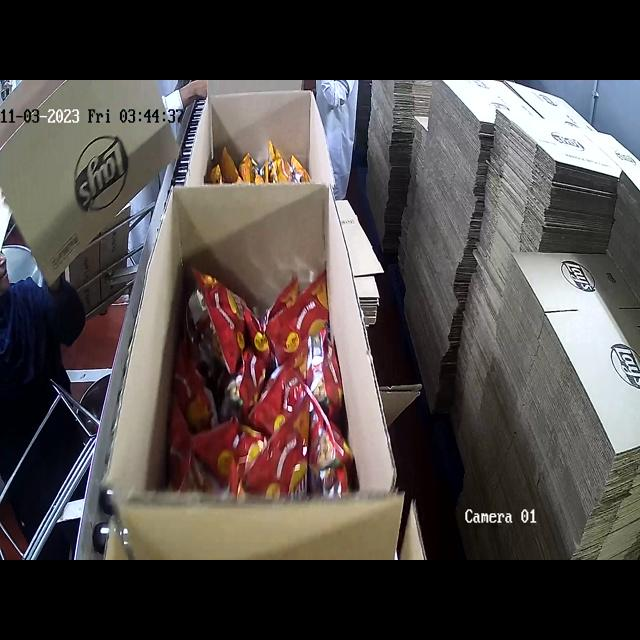cheese: (209, 123, 312, 198)
masala: (153, 262, 345, 500)
